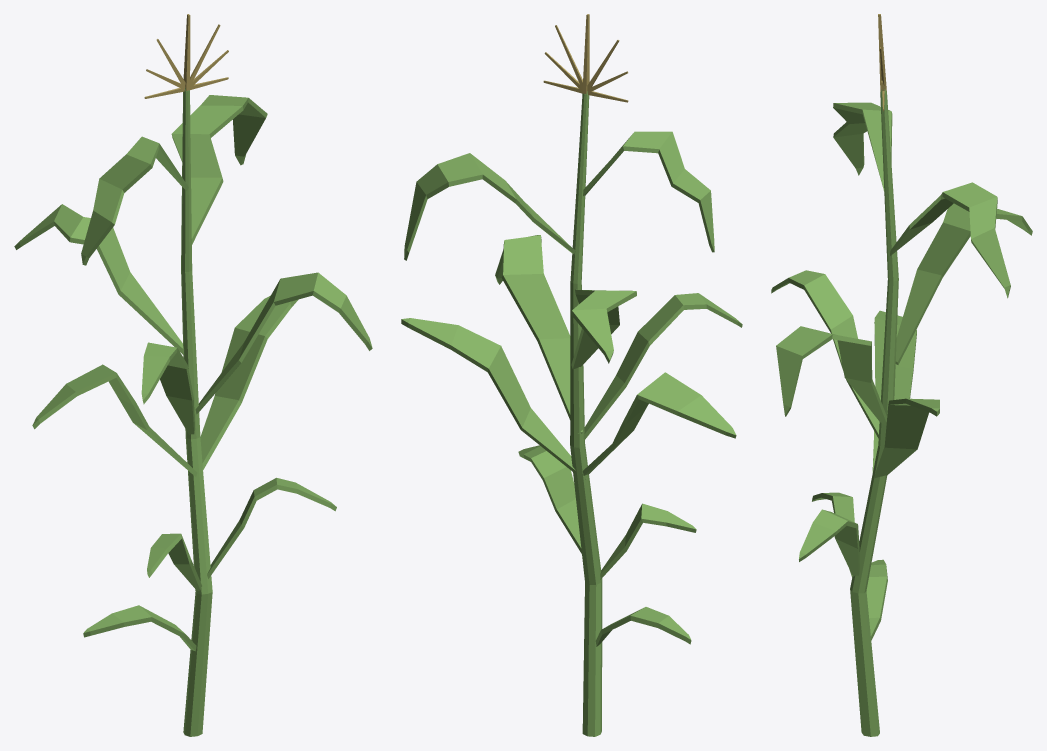
File: corn_harvested.glb
3 views of the same model, side by side, from view 1: azimuth 30°, elevation 25°; view 2: azimuth 150°, elevation 25°; view 3: azimuth 270°, elevation 25° (orthographic).
Parts seen in each view (by area): view 1: Corn_Harvested; view 2: Corn_Harvested; view 3: Corn_Harvested.
Part boxes in pixels (x1,y1,x2,y2): Corn_Harvested: (14,14,372,736); Corn_Harvested: (401,14,742,736); Corn_Harvested: (771,14,1032,736).
Size of the model in its own units: 0.8873 by 1.97 by 0.649.
